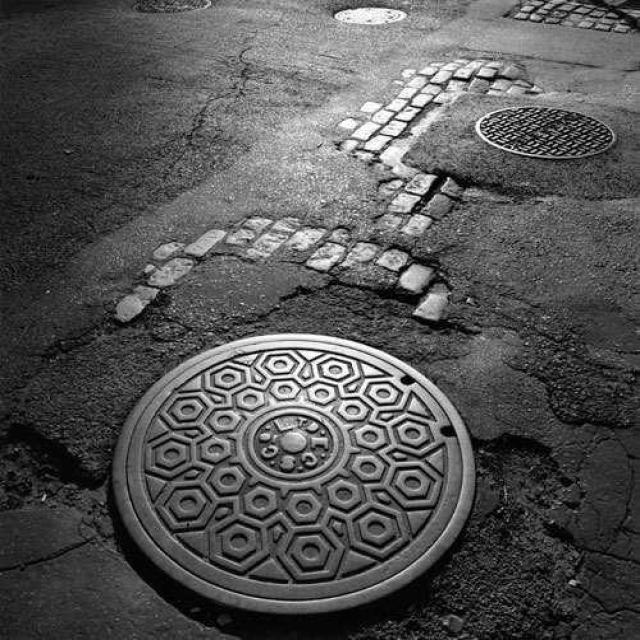manhole: (113, 334, 473, 613), (475, 106, 615, 159), (334, 8, 406, 24), (133, 0, 213, 12)
